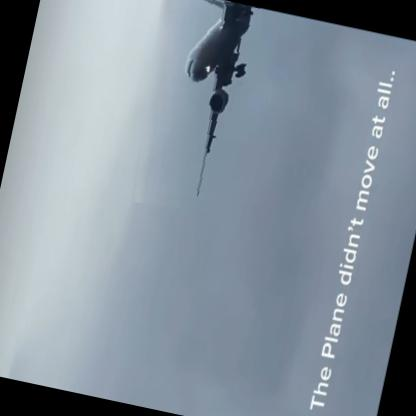plane: (121, 0, 279, 220)
